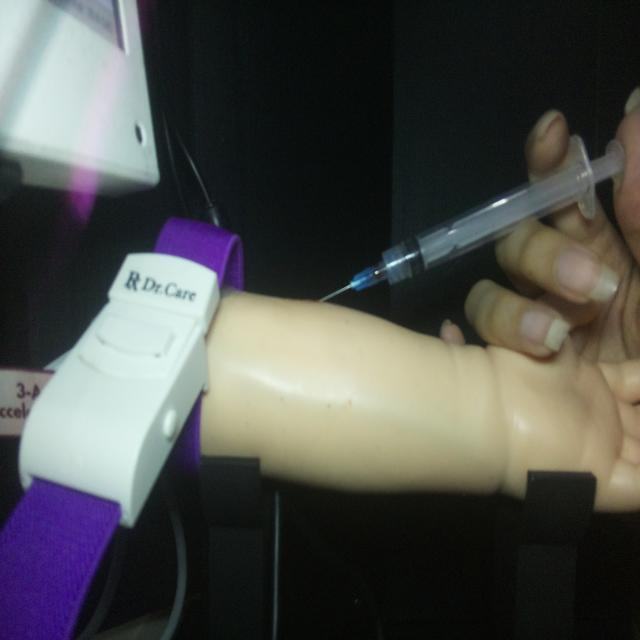17 degrees: (316, 131, 626, 306)
